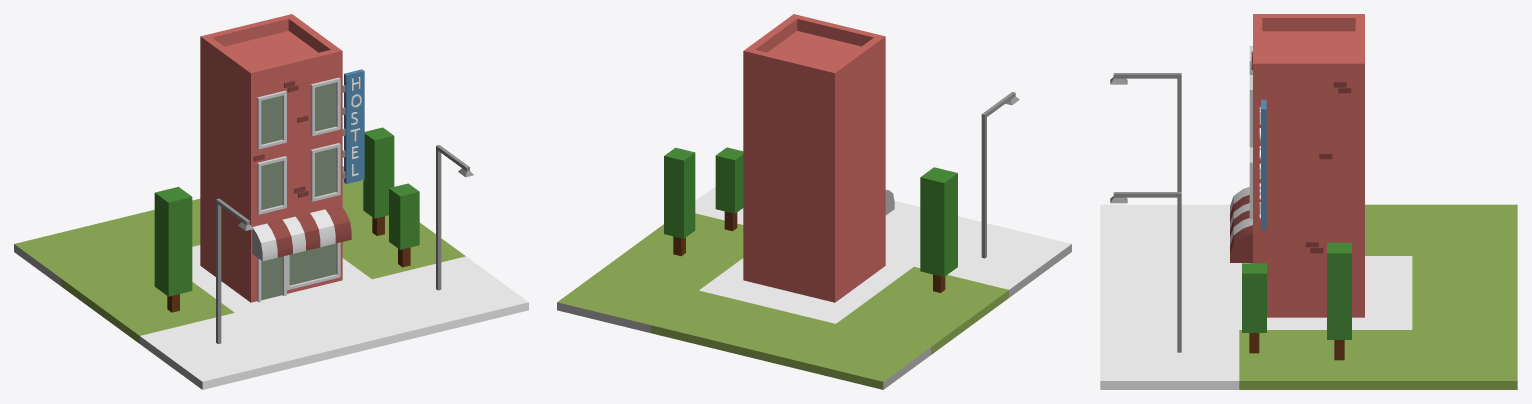
File: hostel.glb
3 renders of one model, left to right at view 1: azimuth 30°, elevation 25°; view 2: azimuth 150°, elevation 25°; view 3: azimuth 270°, elevation 25°, orthographic. The views are drawn at different scales.
Parts seen in each view (by area): view 1: pCube1, pCube2, pCube27, pCube9, pCube28, pCube12, pCube11, pCube30, pCube6, pCube3, pCube4, pCube5 (+3 smaller); view 2: pCube1, pCube2, pCube27, pCube28, pCube30, pCube34; view 3: pCube1, pCube2, pCube28, pCube30, pCube9, pCube35, pCube34, pCube12.
Boxes of the visible parts, x1,y1,x2,y2 form: pCube1: (14, 166, 528, 389); pCube2: (200, 14, 342, 302); pCube27: (154, 187, 192, 296); pCube9: (252, 205, 351, 261); pCube28: (363, 127, 394, 218); pCube12: (344, 69, 364, 183); pCube11: (287, 242, 340, 290); pCube30: (389, 183, 419, 249); pCube6: (310, 143, 340, 201); pCube3: (310, 77, 340, 136); pCube4: (257, 90, 286, 149); pCube5: (257, 156, 286, 214); pCube1: (557, 186, 1071, 389); pCube2: (743, 14, 885, 302); pCube27: (920, 167, 957, 276); pCube28: (664, 147, 695, 238); pCube30: (715, 147, 743, 213); pCube34: (981, 92, 1019, 258); pCube1: (1100, 204, 1517, 389); pCube2: (1253, 14, 1364, 317); pCube28: (1327, 242, 1351, 339); pCube30: (1242, 263, 1266, 332); pCube9: (1230, 187, 1252, 262); pCube35: (1110, 192, 1181, 352); pCube34: (1110, 73, 1181, 191); pCube12: (1261, 99, 1266, 229).
Bounding box in the file's own units: 18.01 × 12.53 × 18.01.
